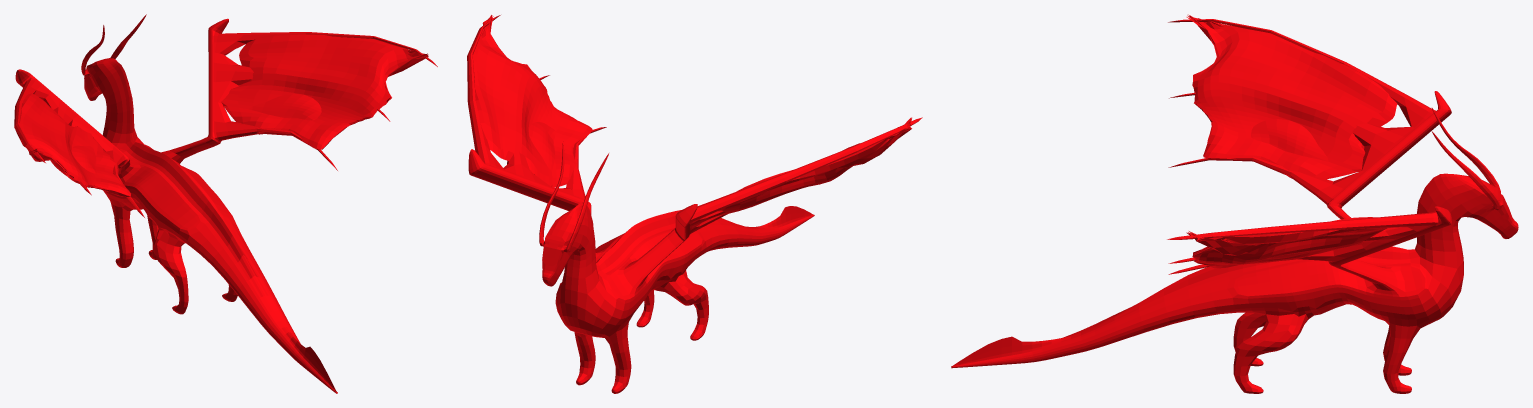
File: Dragon.fbx
3 renders of one model, left to right at view 1: azimuth 30°, elevation 25°; view 2: azimuth 150°, elevation 25°; view 3: azimuth 270°, elevation 25°, orthographic. The views are drawn at different scales.
Parts seen in each view (by area): view 1: Dragon; view 2: Dragon; view 3: Dragon.
Part boxes in pixels (x1=…): Dragon: x1=14, y1=14, x2=437, y2=393; Dragon: x1=467, y1=15, x2=922, y2=393; Dragon: x1=951, y1=14, x2=1518, y2=393.
Bounding box in the file's own units: 298 × 167 × 323.
